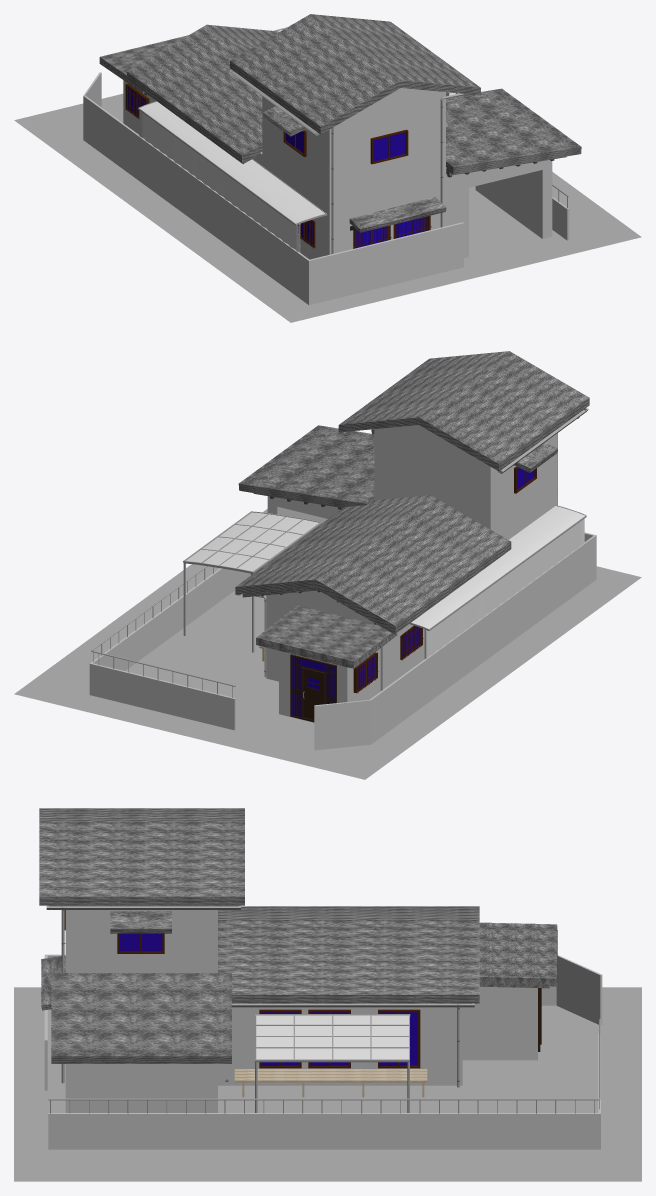
File: ie17_mid.fbx
The picture shows the model from 3 angles, top to bottom: view 1: azimuth 30°, elevation 25°; view 2: azimuth 150°, elevation 25°; view 3: azimuth 270°, elevation 25°; orthographic projection. The views are drawn at different scales.
Parts seen in each view (by area): view 1: polySurface33; view 2: polySurface33; view 3: polySurface33.
Part boxes in pixels (left/top/right/bottom): polySurface33: left=14, top=14, right=641, bottom=322; polySurface33: left=14, top=351, right=641, bottom=779; polySurface33: left=14, top=808, right=641, bottom=1181.
Bounding box in the file's own units: 1845 × 1126 × 2519.
